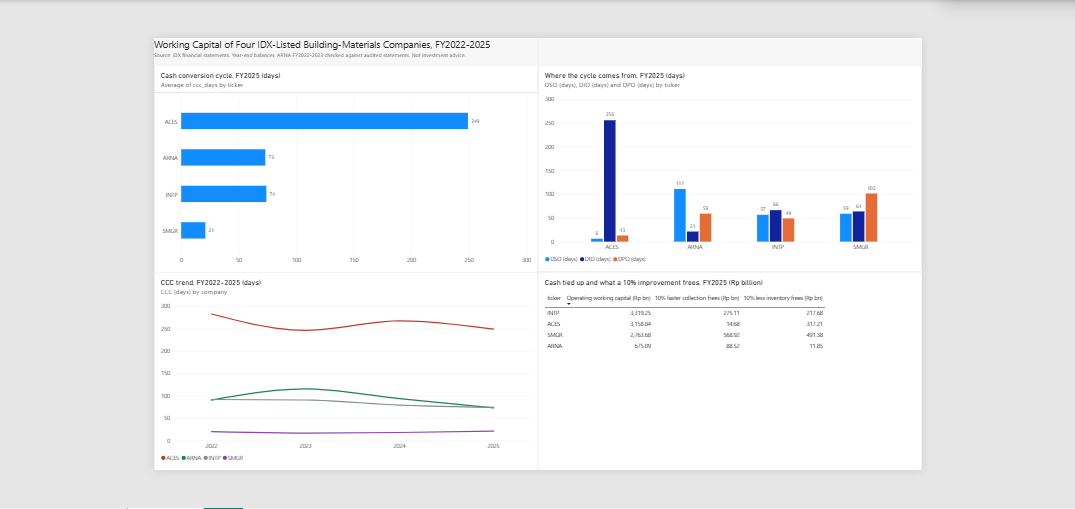

Layout of this report page (visuals, bound fields, positions):
{"tool":"powerbi","page":{"name":"Page 1","canvas":[1920,1080],"ordinal":0},"visuals":[{"type":"clusteredBarChart","title":"Cash conversion cycle, FY2025 (days)","fields":{"Category":["ccc_by_company_year.ticker"],"Y":["Avg(ccc_by_company_year.ccc_days)"]},"box":[0,68,960,519.1],"z":1000},{"type":"lineChart","title":"CCC trend, FY2022-2025 (days)","fields":{"Category":["ccc_by_company_year.fiscal_year"],"Series":["ccc_by_company_year.ticker"],"Y":["Sum(ccc_by_company_year.ccc_days)"]},"box":[0,584.6,960,496.4],"z":2000},{"type":"clusteredColumnChart","title":"Where the cycle comes from, FY2025 (days)","fields":{"Category":["ccc_by_company_year.ticker"],"Y":["Sum(ccc_by_company_year.dso)","Sum(ccc_by_company_year.dio)","Sum(ccc_by_company_year.dpo)"]},"box":[960.9,68,958.8,516.6],"z":3000},{"type":"tableEx","title":"Cash tied up and what a 10% improvement frees, FY2025 (Rp billion)","fields":{"Values":["ccc_by_company_year.ticker","Sum(ccc_by_company_year.operating_wc_bn)","Sum(ccc_by_company_year.cash_freed_dso_10pct_bn)","Sum(ccc_by_company_year.cash_freed_dio_10pct_bn)"]},"box":[960,584.6,960,496.4],"z":4000},{"type":"textbox","box":[0,0,960,136.1],"z":5000}]}

Visuals, with their boxes on the page's 1920x1080 design canvas (x1, y1, x2, y2). These are canvas units, not pixel positions in the 1075x509 screenshot, which may show the page scaled, cropped or inside an application window:
"Cash conversion cycle, FY2025 (days)" clusteredBarChart: 0, 68, 960, 587
"CCC trend, FY2022-2025 (days)" lineChart: 0, 585, 960, 1081
"Where the cycle comes from, FY2025 (days)" clusteredColumnChart: 961, 68, 1920, 585
"Cash tied up and what a 10% improvement frees, FY2025 (Rp billion)" tableEx: 960, 585, 1920, 1081
textbox: 0, 0, 960, 136
